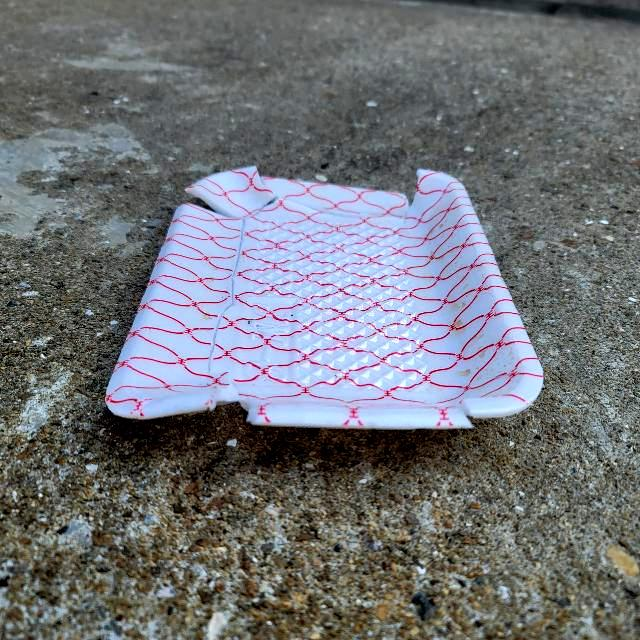Styrofoam: (103, 166, 543, 432), (105, 166, 544, 429)
